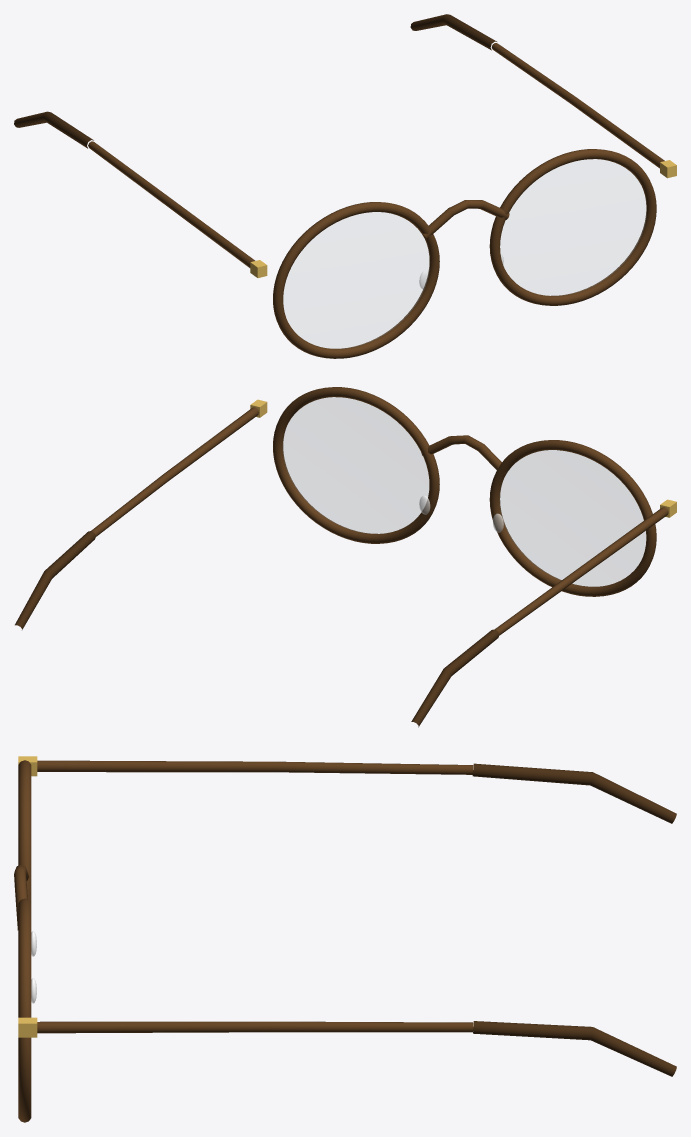
3 views of the same model, one above another, from view 1: azimuth 30°, elevation 25°; view 2: azimuth 150°, elevation 25°; view 3: azimuth 270°, elevation 25° (orthographic). The views are drawn at different scales.
Visible parts, largest first — view 1: Lens_L, Lens_R, Rim_L, Rim_R, Temple_R, Temple_L, TempleTip_R, TempleTip_L, Bridge; view 2: Lens_R, Lens_L, Rim_R, Rim_L, Temple_L, Temple_R, TempleTip_L, TempleTip_R, Bridge; view 3: Temple_R, Temple_L, TempleTip_L, Rim_R, TempleTip_R, Rim_L.
Boxes of the visible parts, x1,y1,x2,y2 form: Lens_L: (283, 212, 429, 348); Lens_R: (500, 159, 646, 295); Rim_L: (273, 202, 439, 358); Rim_R: (489, 149, 656, 305); Temple_R: (491, 43, 664, 168); Temple_L: (88, 141, 255, 267); TempleTip_R: (410, 14, 496, 50); TempleTip_L: (14, 111, 93, 148); Bridge: (422, 200, 509, 238); Lens_R: (283, 397, 428, 533); Lens_L: (499, 450, 645, 586); Rim_R: (273, 387, 439, 543); Rim_L: (489, 440, 656, 596); Temple_L: (495, 507, 668, 635); Temple_R: (91, 407, 259, 536); TempleTip_L: (411, 629, 499, 727); TempleTip_R: (15, 531, 95, 629); Bridge: (421, 435, 505, 475); Temple_R: (37, 1021, 473, 1033); Temple_L: (37, 760, 472, 774); TempleTip_L: (472, 763, 676, 823); Rim_R: (18, 898, 31, 1122); TempleTip_R: (473, 1021, 676, 1076); Rim_L: (18, 760, 31, 902).
Bounding box in the file's own units: 2.66 × 0.9178 × 2.79.
